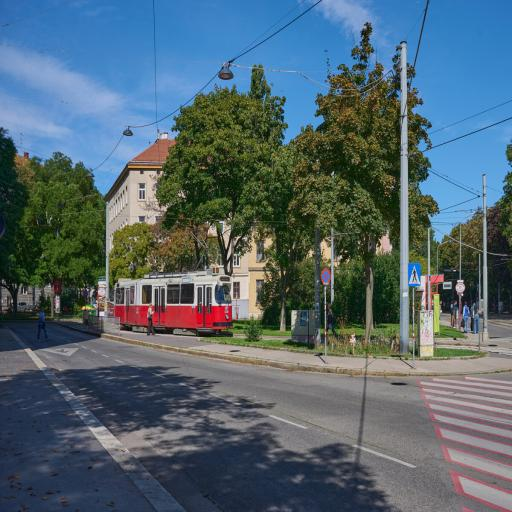E2-Tram: (116, 264, 236, 334)
